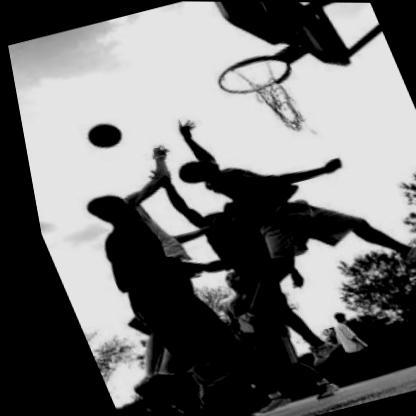basketball: (74, 115, 127, 158)
